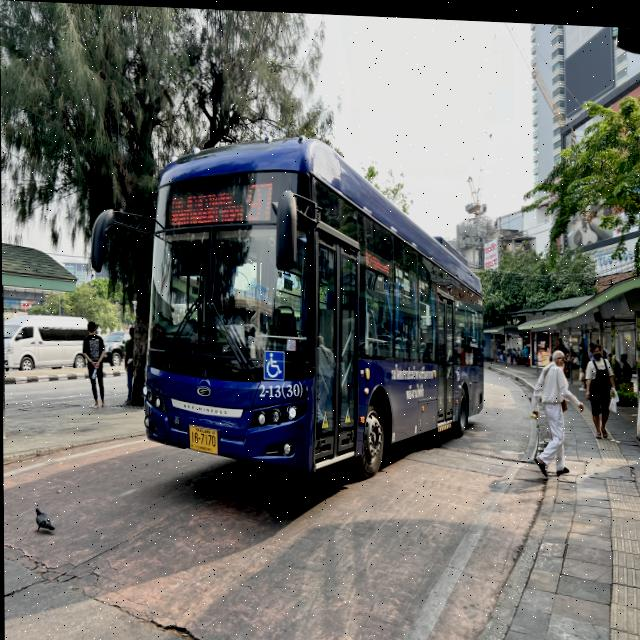Bus-Line-Number: (245, 176, 275, 220)
Destination-Sign-Normal: (166, 188, 243, 227)
TSB-Bus: (139, 131, 485, 483)
